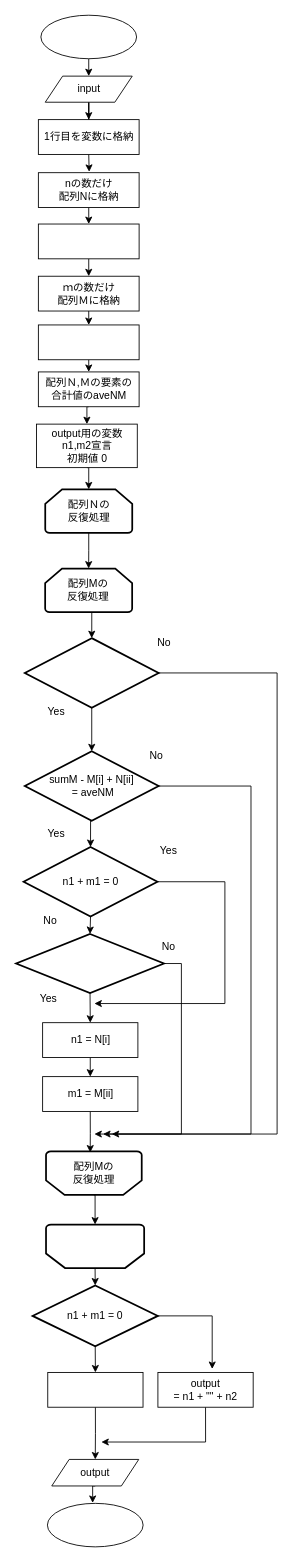
Some shapes in this 299 by 1563 pixel diagram are drawn without their labels. The shapes that lost their labels are listed below. From the top down, each one's centre as x and y in pixels, then its label:
the point at 88,36: 開始
the point at 88,241: 配列Nの要素の 合計値 sumN
the point at 88,342: 配列Ｍの要素の 合計値 sumM
the point at 91,672: sumN - N[i] +M[ii] = aveNM
the point at 89,963: n1 + m1 > N[i] + M[ii]
the point at 95,1245: 配列Nの 反復処理
the point at 95,1389: output = -1
the point at 95,1524: 終了
